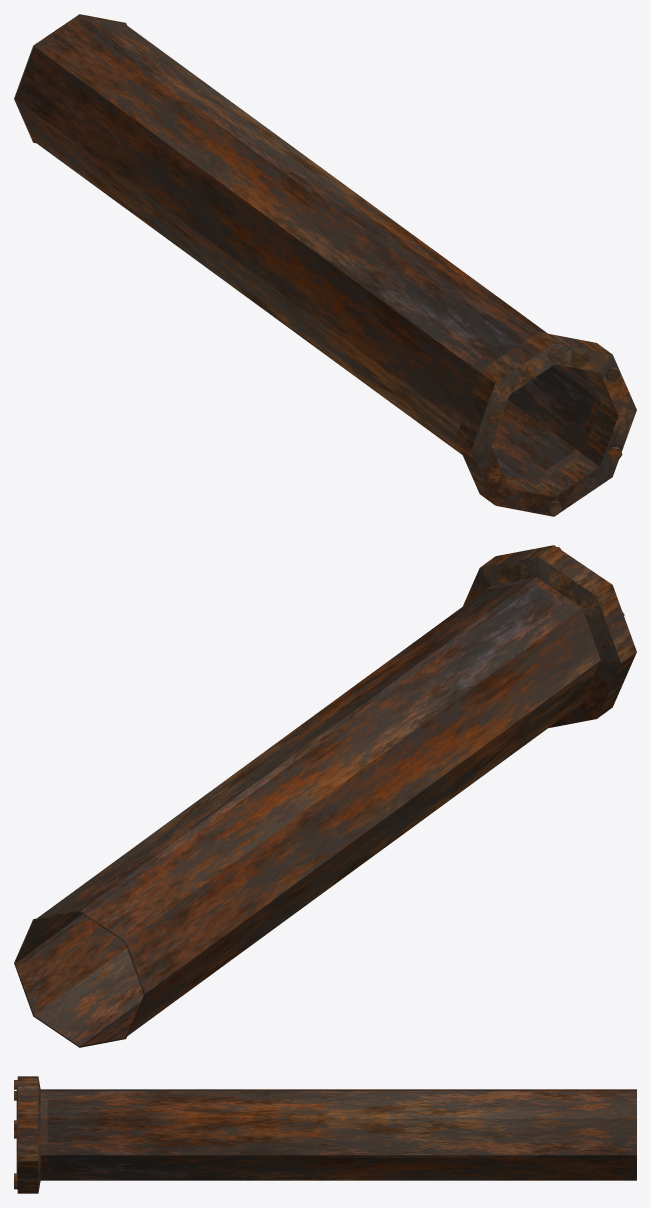
Rendered from Pipe.fbx.
The picture shows the model from 3 angles, top to bottom: view 1: azimuth 30°, elevation 25°; view 2: azimuth 150°, elevation 25°; view 3: azimuth 270°, elevation 25°; orthographic projection. The views are drawn at different scales.
Parts seen in each view (by area): view 1: Cylinder; view 2: Cylinder; view 3: Cylinder.
Part boxes in pixels (left/top/right/bottom): Cylinder: left=14, top=14, right=636, bottom=516; Cylinder: left=14, top=545, right=636, bottom=1047; Cylinder: left=14, top=1076, right=636, bottom=1193.
Bounding box in the file's own units: 371 × 371 × 1851.
